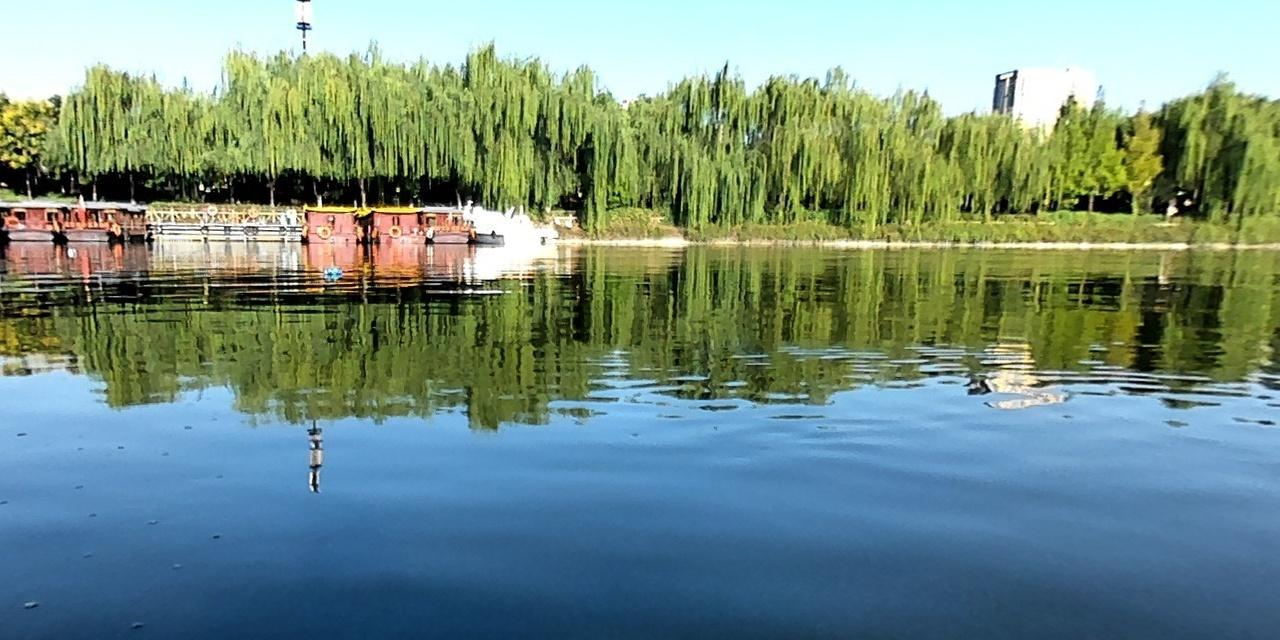bottle: (320, 265, 344, 276)
